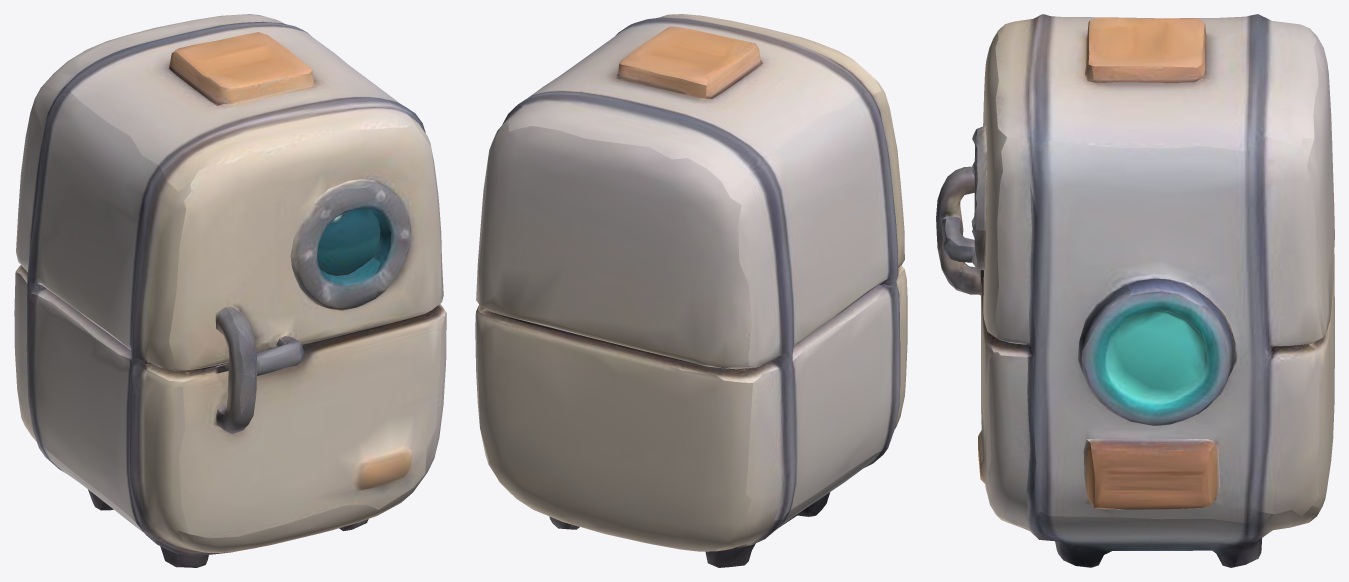
File: fridge.glb
3 renders of one model, left to right at view 1: azimuth 30°, elevation 25°; view 2: azimuth 150°, elevation 25°; view 3: azimuth 270°, elevation 25°, orthographic. The views are drawn at different scales.
Parts seen in each view (by area): view 1: fridge_s41; view 2: fridge_s41; view 3: fridge_s41.
Boxes of the visible parts, x1,y1,x2,y2 form: fridge_s41: (14,14,446,567); fridge_s41: (475,14,907,567); fridge_s41: (936,14,1334,567).
Bounding box in the file's own units: 0.7586 × 1 × 0.7485.
Materials: 1 (1 with a texture image).
